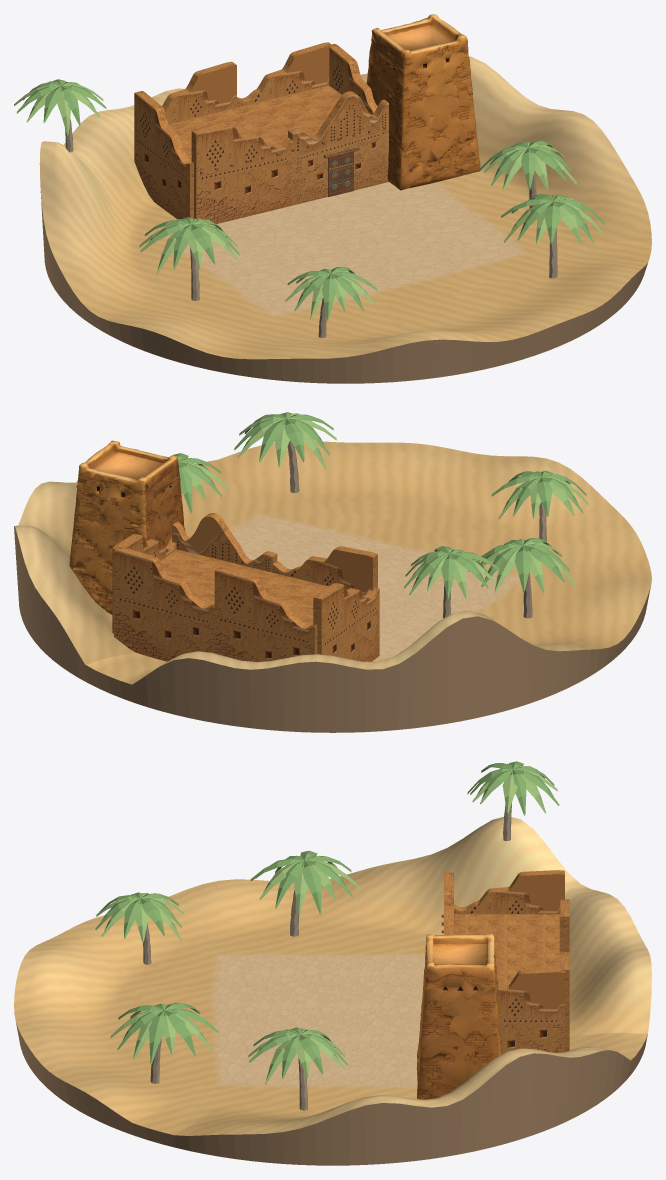
3 views of the same model, one above another, from view 1: azimuth 30°, elevation 25°; view 2: azimuth 150°, elevation 25°; view 3: azimuth 270°, elevation 25° (orthographic). The views are drawn at different scales.
Visible parts, largest first — view 1: Ground, Tower.001, Plinth, FacadeSteps.001, FacadeGable.001, FacadeSteps.002, PalaceRoof, FacadeSteps.004, FacadeSteps.005, FacadeSteps.003, PalaceDoor; view 2: Ground, Plinth, Tower.001, FacadeSteps.005, FacadeSteps.004, FacadeSteps.002, PalaceRoof, FacadeSteps.001, FacadeGable.001, FacadeSteps.003, frond.017; view 3: Ground, Plinth, Tower.001, FacadeSteps.003, PalaceRoof, FacadeSteps.002, FacadeSteps.001, FacadeSteps.005.
Boxes of the visible parts, x1=… form: Ground: x1=39, y1=56, x2=651, y2=359; Tower.001: x1=366, y1=14, x2=480, y2=190; Plinth: x1=40, y1=186, x2=647, y2=383; FacadeSteps.001: x1=191, y1=123, x2=292, y2=224; FacadeGable.001: x1=288, y1=91, x2=388, y2=205; FacadeSteps.002: x1=134, y1=91, x2=193, y2=219; PalaceRoof: x1=169, y1=85, x2=341, y2=161; FacadeSteps.004: x1=162, y1=61, x2=236, y2=124; FacadeSteps.005: x1=237, y1=42, x2=332, y2=107; FacadeSteps.003: x1=329, y1=44, x2=377, y2=114; PalaceDoor: x1=328, y1=152, x2=353, y2=196; Ground: x1=14, y1=441, x2=651, y2=684; Plinth: x1=14, y1=526, x2=650, y2=732; Tower.001: x1=69, y1=440, x2=185, y2=614; FacadeSteps.005: x1=114, y1=547, x2=214, y2=661; FacadeSteps.004: x1=214, y1=567, x2=317, y2=661; FacadeSteps.002: x1=313, y1=582, x2=379, y2=661; PalaceRoof: x1=160, y1=549, x2=365, y2=625; FacadeSteps.001: x1=272, y1=546, x2=377, y2=595; FacadeGable.001: x1=172, y1=513, x2=277, y2=572; FacadeSteps.003: x1=112, y1=533, x2=176, y2=633; frond.017: x1=514, y1=545, x2=531, y2=592; Ground: x1=14, y1=817, x2=651, y2=1135; Plinth: x1=16, y1=1023, x2=647, y2=1165; Tower.001: x1=416, y1=934, x2=502, y2=1099; FacadeSteps.003: x1=498, y1=968, x2=564, y2=1053; PalaceRoof: x1=454, y1=914, x2=559, y2=985; FacadeSteps.002: x1=454, y1=870, x2=564, y2=954; FacadeSteps.001: x1=444, y1=872, x2=453, y2=935; FacadeSteps.005: x1=560, y1=952, x2=569, y2=1051.
Size of the model in its own units: 33 by 9.33 by 33.
Materials: 14 (9 with a texture image).
